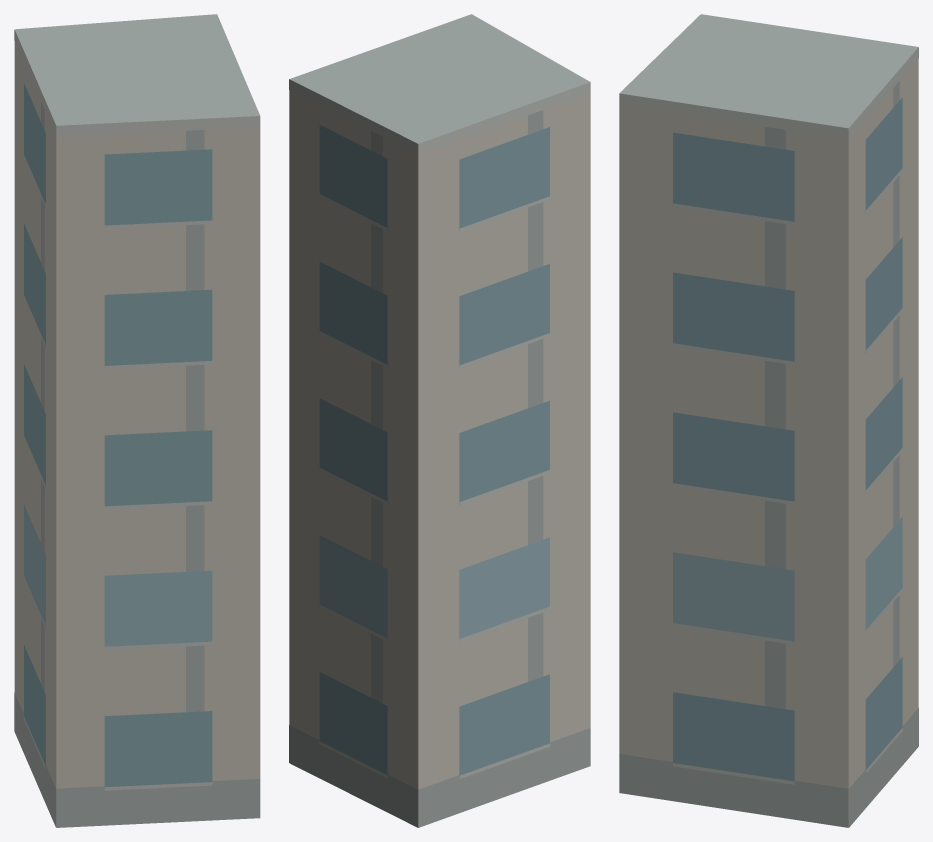
The model's file is survey-upis-32820215.glb.
The picture shows the model from 3 angles, left to right: view 1: azimuth 30°, elevation 25°; view 2: azimuth 150°, elevation 25°; view 3: azimuth 270°, elevation 25°; orthographic projection. The views are drawn at different scales.
Visible parts, largest first — view 1: survey-upis-32820215.tmp; view 2: survey-upis-32820215.tmp; view 3: survey-upis-32820215.tmp.
Part boxes in pixels (bbox=[...]): survey-upis-32820215.tmp: bbox=[14, 14, 260, 827]; survey-upis-32820215.tmp: bbox=[289, 14, 590, 827]; survey-upis-32820215.tmp: bbox=[619, 14, 918, 827].
Size of the model in its own units: 5.35 by 15.25 by 5.93.
